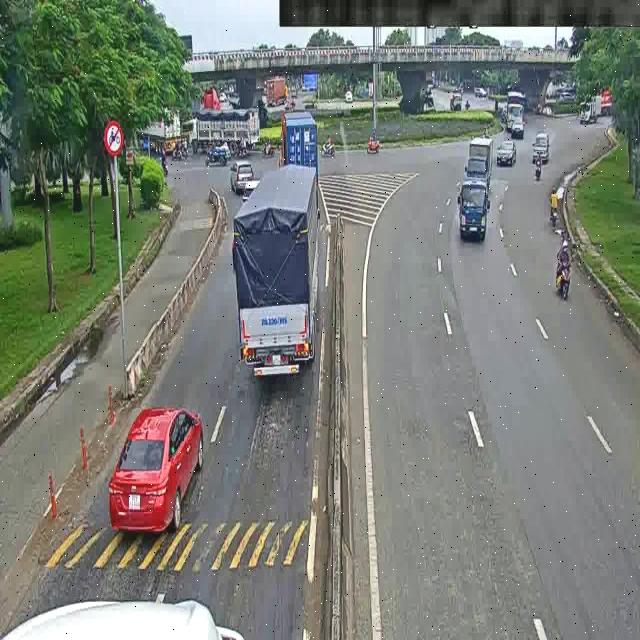car: (108, 403, 211, 538)
motorbike: (551, 243, 585, 300), (225, 156, 263, 194), (193, 144, 246, 169), (493, 135, 518, 171), (531, 132, 557, 166), (317, 138, 345, 160), (239, 180, 263, 205), (365, 136, 386, 157), (457, 96, 477, 116), (170, 142, 195, 157), (538, 159, 551, 182), (550, 186, 557, 228), (508, 121, 523, 138)
truck: (229, 153, 335, 385), (19, 563, 247, 640), (461, 131, 509, 202), (190, 107, 269, 149), (455, 176, 501, 247), (275, 108, 320, 180), (131, 103, 187, 141), (263, 76, 290, 106), (580, 90, 602, 121), (502, 90, 520, 120)
